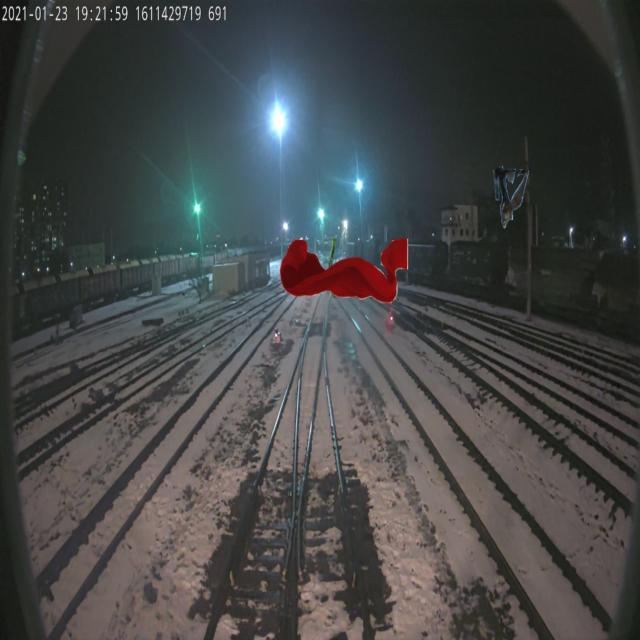floating object: (280, 239, 408, 303), (492, 164, 529, 228), (328, 238, 338, 302)
